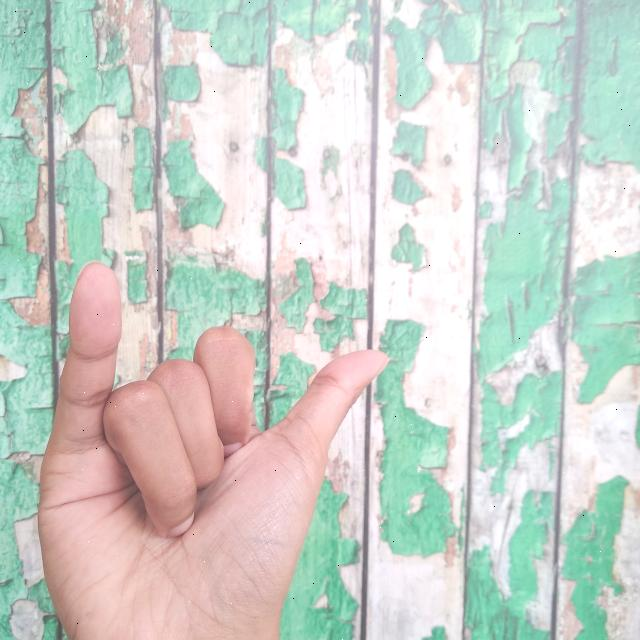Y: (32, 256, 399, 640)
